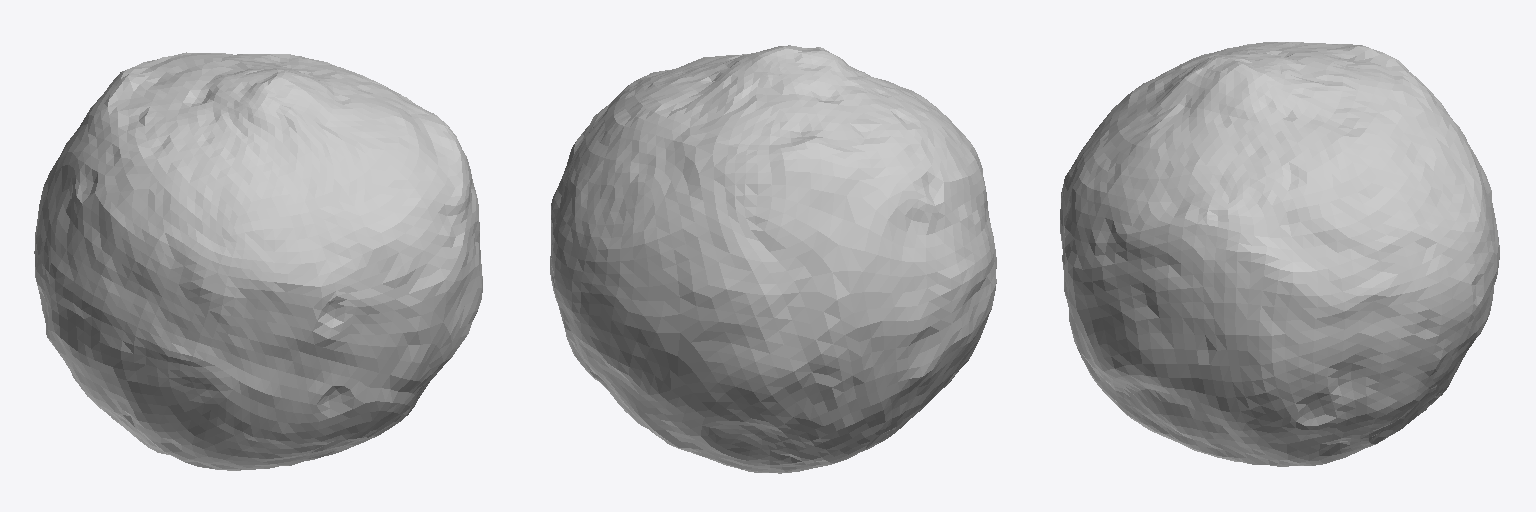
File: asteroidtest.obj
3 renders of one model, left to right at view 1: azimuth 30°, elevation 25°; view 2: azimuth 150°, elevation 25°; view 3: azimuth 270°, elevation 25°, orthographic.
Visible parts, largest first — view 1: asteroid; view 2: asteroid; view 3: asteroid.
Boxes of the visible parts, x1,y1,x2,y2 form: asteroid: [34, 52, 482, 470]; asteroid: [550, 45, 996, 473]; asteroid: [1060, 42, 1499, 466].
Bounding box in the file's own units: 5.62 × 5.23 × 5.42.